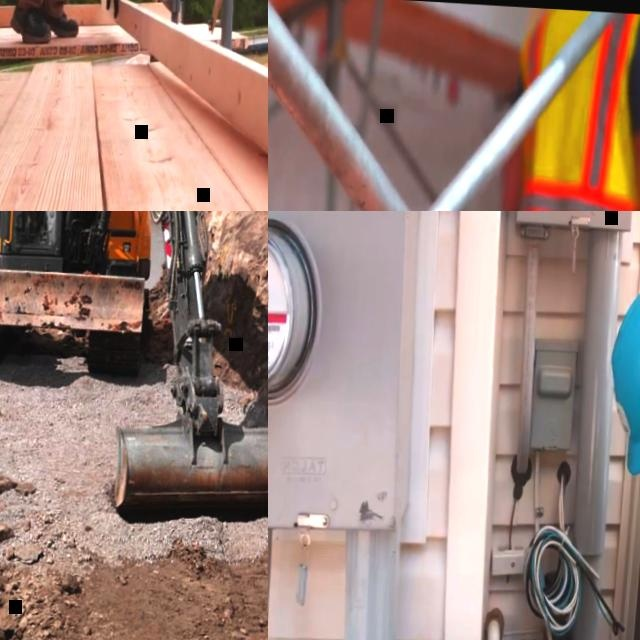Hardhat: (604, 277, 640, 483)
Person: (479, 5, 640, 211)
Safety Vest: (506, 5, 640, 211)
machinery: (0, 211, 268, 527)
